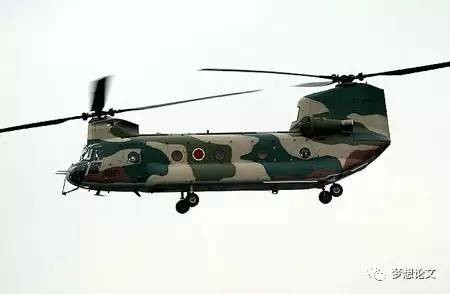chinook: (48, 66, 446, 216)
